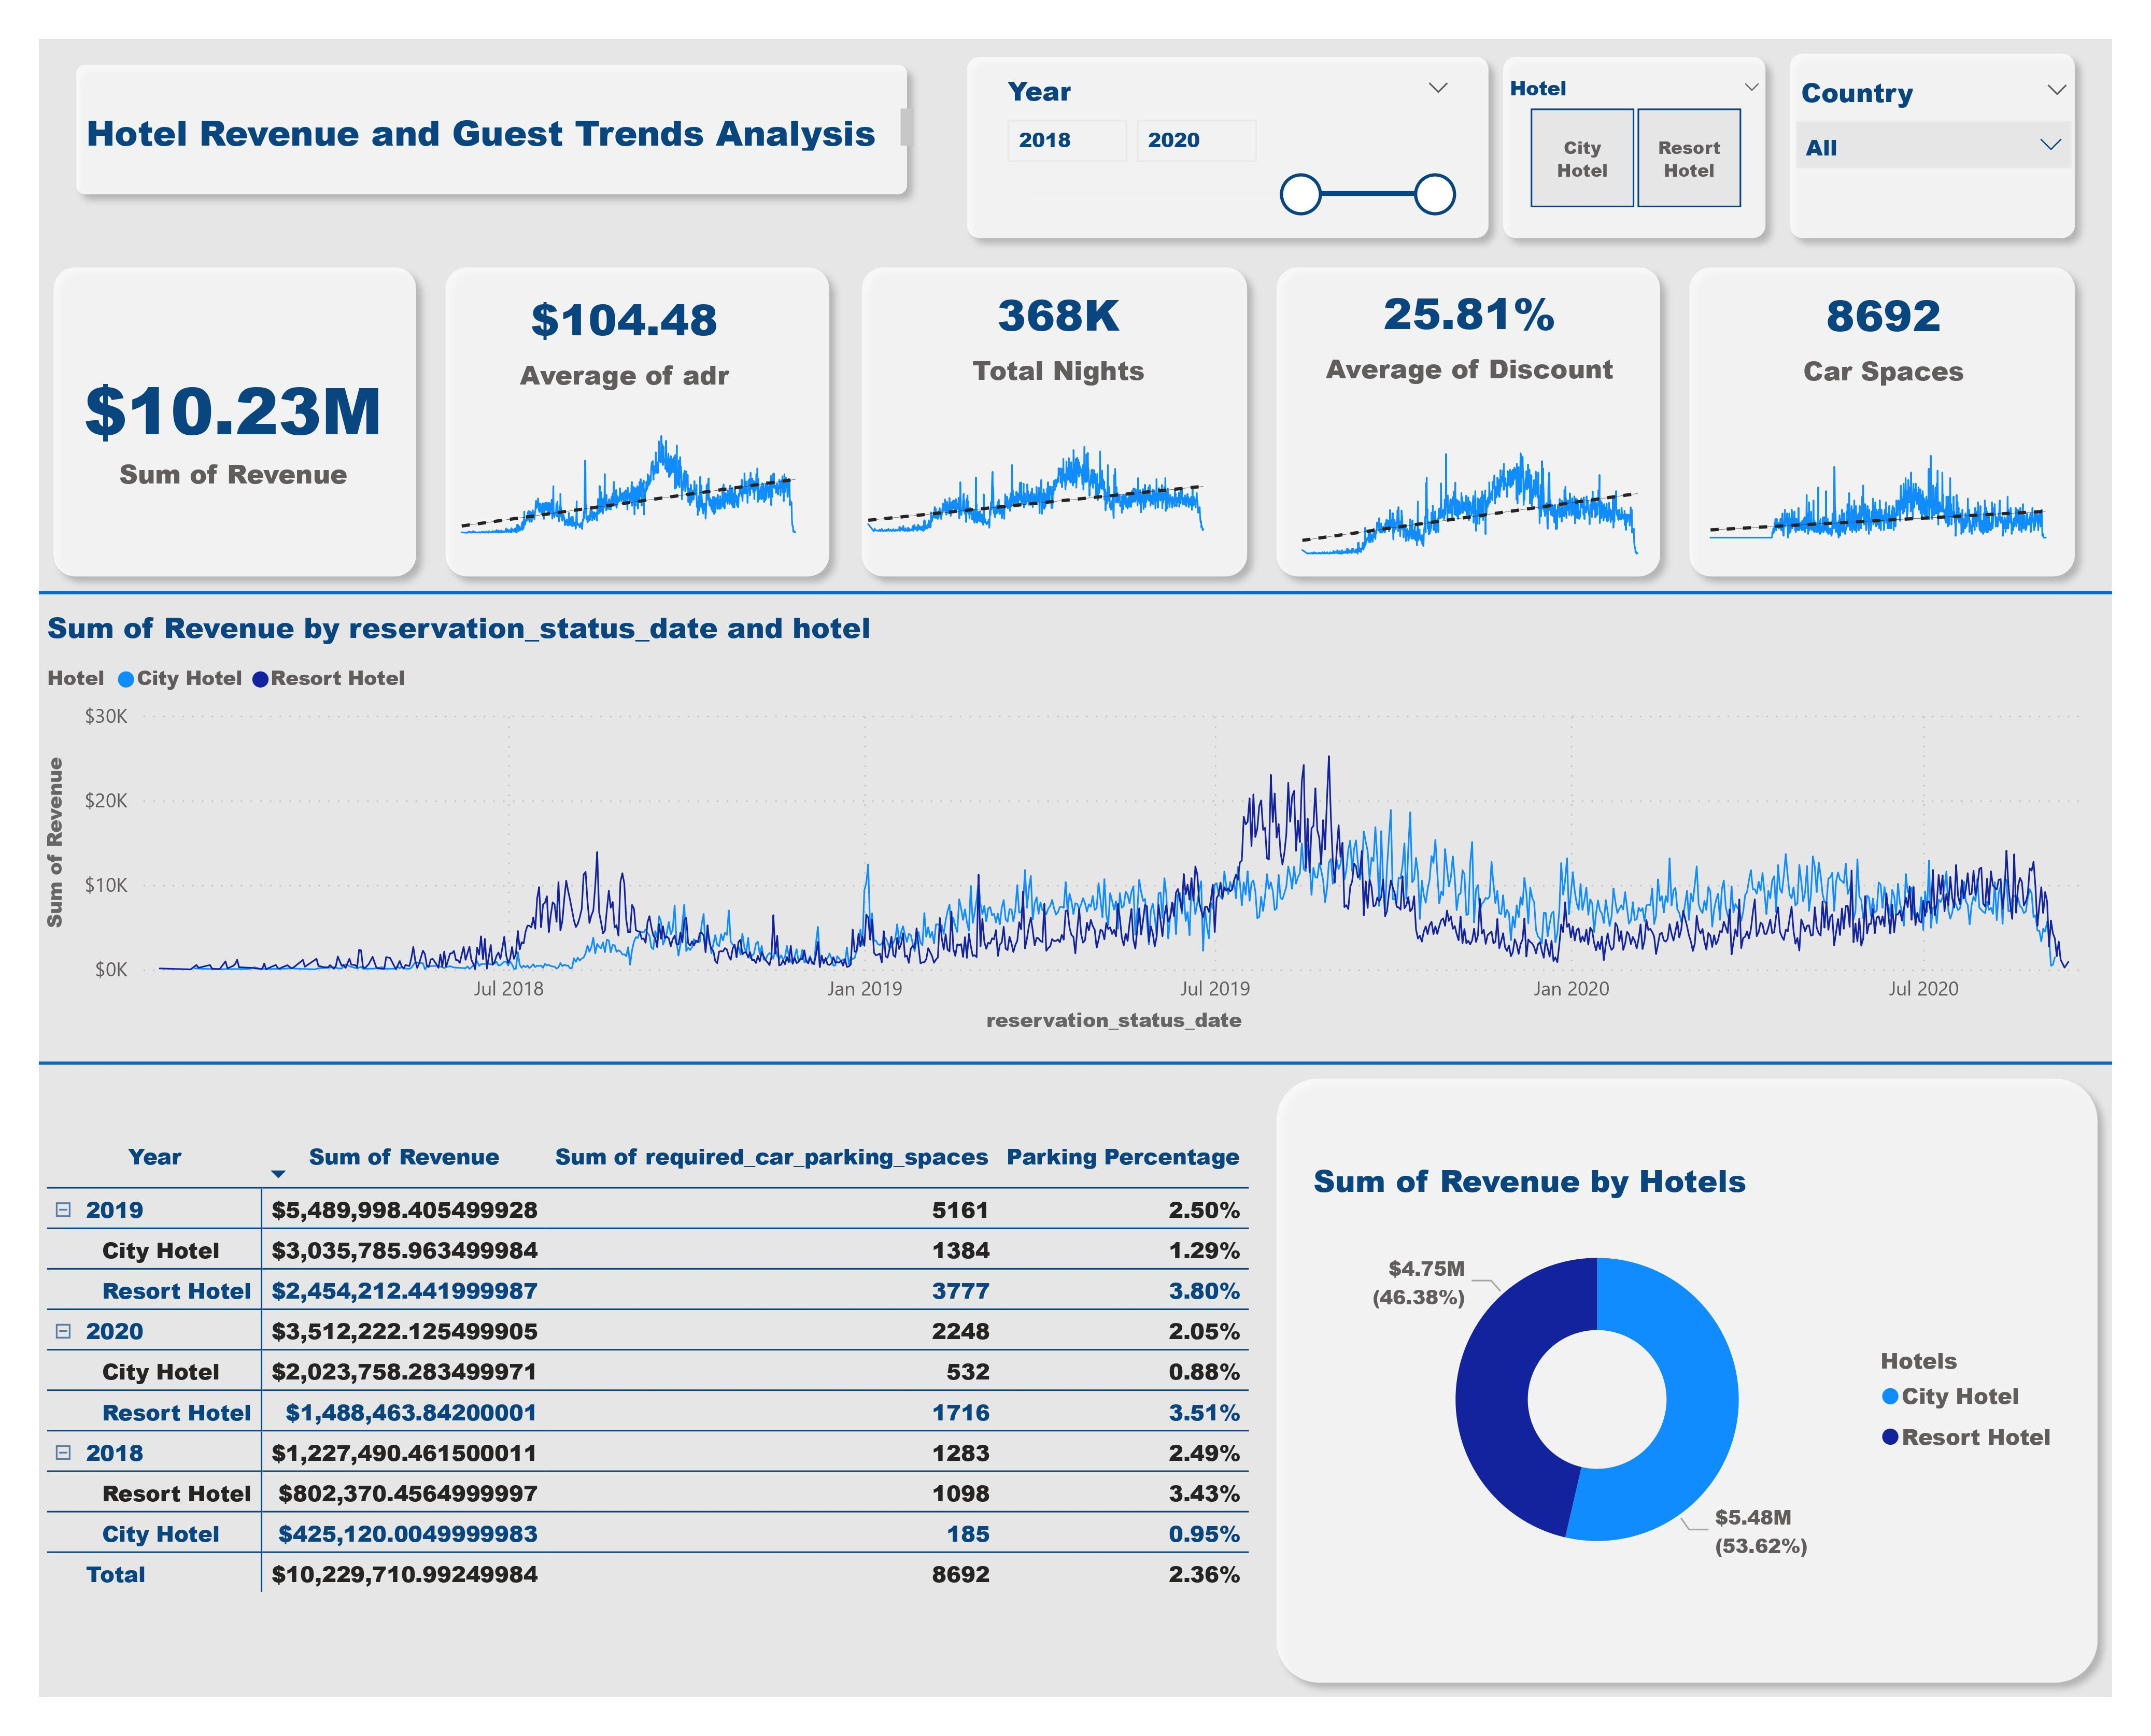

Layout of this report page (visuals, bound fields, positions):
{"tool":"powerbi","page":{"name":"Page 1","canvas":[1280,1024],"ordinal":0},"visuals":[{"type":"shape","box":[754.7,632.9,524.9,391.1],"z":0},{"type":"shape","box":[1010.3,132.1,255.6,209.3],"z":1000},{"type":"shape","box":[754.7,132.1,255.6,209.3],"z":2000},{"type":"shape","box":[499.1,132.1,255.6,209.3],"z":3000},{"type":"shape","box":[241.8,132.1,255.6,209.3],"z":4000},{"type":"shape","box":[1072,0,193.8,132.1],"z":5000},{"type":"shape","box":[895.4,1.7,180.1,130.4],"z":6000},{"type":"shape","box":[564.3,1.7,339.6,130.4],"z":7000},{"type":"shape","box":[0,132.1,241.8,209.3],"z":8000},{"type":"shape","box":[0,332.7,1280.3,17.8],"z":9000},{"type":"shape","box":[0,619.4,1280.3,26.7],"z":10000},{"type":"card","fields":{"Values":["Sum(hotelrevenue_merged.Revenue)"]},"box":[13.7,164.7,212.7,149.2],"z":11000},{"type":"card","fields":{"Values":["Avg(hotelrevenue_merged.adr)"]},"box":[226.4,111.5,271,147.5],"z":12000},{"type":"card","fields":{"Values":["hotelrevenue_merged.Total Nights"]},"box":[494,108.1,271,147.5],"z":13000},{"type":"card","fields":{"Values":["Avg(hotelrevenue_merged.Discount)"]},"box":[747.8,106.3,271,149.2],"z":14000},{"type":"lineChart","fields":{"Y":["Sum(hotelrevenue_merged.Revenue)"],"Category":["hotelrevenue_merged.reservation_status_date"],"Series":["hotelrevenue_merged.hotel"]},"box":[0,350.5,1280.3,268.8],"z":15000},{"type":"slicer","fields":{"Values":["hotelrevenue_merged.country"]},"box":[1075.3,16.3,190.1,81.7],"z":16000},{"type":"slicer","fields":{"Values":["hotelrevenue_merged.hotel"]},"box":[895.4,17.2,180.1,94.3],"z":17000},{"type":"lineChart","fields":{"Y":["Sum(hotelrevenue_merged.adr)"],"Category":["hotelrevenue_merged.reservation_status_date"]},"box":[245.8,222.8,236.7,88.2],"z":18000},{"type":"lineChart","fields":{"Y":["hotelrevenue_merged.Total Nights"],"Category":["hotelrevenue_merged.reservation_status_date"]},"box":[497.4,223,236.7,87.5],"z":19000},{"type":"lineChart","fields":{"Y":["Sum(hotelrevenue_merged.Discount)"],"Category":["hotelrevenue_merged.reservation_status_date"]},"box":[765,236.7,236.7,87.5],"z":20000},{"type":"card","fields":{"Values":["Sum(hotelrevenue_merged.required_car_parking_spaces)"]},"box":[1018.9,108.1,240.1,149.2],"z":21000},{"type":"lineChart","fields":{"Y":["Sum(hotelrevenue_merged.required_car_parking_spaces)"],"Category":["hotelrevenue_merged.reservation_status_date"]},"box":[1017.1,224.7,236.7,89.2],"z":22000},{"type":"donutChart","title":"Sum of Revenue by Hotels","fields":{"Category":["hotelrevenue_merged.hotel"],"Y":["Sum(hotelrevenue_merged.Revenue)"]},"box":[782.2,691.2,475.1,272.7],"z":23000},{"type":"pivotTable","fields":{"Rows":["hotelrevenue_merged.reservation_status_date.Variation.Date Hierarchy.Year","hotelrevenue_merged.hotel"],"Values":["Sum(hotelrevenue_merged.Revenue)","Sum(hotelrevenue_merged.required_car_parking_spaces)","hotelrevenue_merged.Parking Percentage"]},"box":[0,672.4,799.3,310.5],"z":24000},{"type":"slicer","fields":{"Values":["hotelrevenue_merged.reservation_status_date.Variation.Date Hierarchy.Year"]},"box":[584.9,15.4,298.5,181.8],"z":25000},{"type":"shape","box":[13.7,6.9,531.7,97.8],"z":26000},{"type":"textbox","box":[24,37.7,521.4,36],"z":27000}]}

Visuals, with their boxes in screenshot pixels (x1, y1, x2, y2):
shape: bbox=[1261, 1064, 2112, 1697]
shape: bbox=[1675, 253, 2089, 592]
shape: bbox=[1261, 253, 1675, 592]
shape: bbox=[847, 253, 1261, 592]
shape: bbox=[431, 253, 844, 592]
shape: bbox=[1775, 39, 2089, 253]
shape: bbox=[1489, 41, 1781, 253]
shape: bbox=[953, 41, 1503, 253]
shape: bbox=[39, 253, 431, 592]
shape: bbox=[39, 578, 2112, 606]
shape: bbox=[39, 1042, 2112, 1085]
card - Sum(hotelrevenue_merged.Revenue): bbox=[61, 306, 405, 547]
card - Avg(hotelrevenue_merged.adr): bbox=[405, 219, 844, 458]
card - hotelrevenue_merged.Total Nights: bbox=[839, 214, 1278, 453]
card - Avg(hotelrevenue_merged.Discount): bbox=[1250, 211, 1689, 452]
lineChart - Sum(hotelrevenue_merged.Revenue) x hotelrevenue_merged.reservation_status_date: bbox=[39, 606, 2112, 1042]
slicer - hotelrevenue_merged.country: bbox=[1780, 65, 2088, 197]
slicer - hotelrevenue_merged.hotel: bbox=[1489, 67, 1781, 219]
lineChart - Sum(hotelrevenue_merged.adr) x hotelrevenue_merged.reservation_status_date: bbox=[437, 400, 820, 543]
lineChart - hotelrevenue_merged.Total Nights x hotelrevenue_merged.reservation_status_date: bbox=[844, 400, 1228, 542]
lineChart - Sum(hotelrevenue_merged.Discount) x hotelrevenue_merged.reservation_status_date: bbox=[1278, 422, 1661, 564]
card - Sum(hotelrevenue_merged.required_car_parking_spaces): bbox=[1689, 214, 2078, 456]
lineChart - Sum(hotelrevenue_merged.required_car_parking_spaces) x hotelrevenue_merged.reservation_status_date: bbox=[1686, 403, 2070, 547]
"Sum of Revenue by Hotels" donutChart: bbox=[1306, 1158, 2075, 1600]
pivotTable - hotelrevenue_merged.reservation_status_date.Variation.Date Hierarchy.Year x hotelrevenue_merged.hotel: bbox=[39, 1128, 1334, 1631]
slicer - hotelrevenue_merged.reservation_status_date.Variation.Date Hierarchy.Year: bbox=[986, 64, 1470, 358]
shape: bbox=[61, 50, 922, 208]
textbox: bbox=[78, 100, 922, 158]
